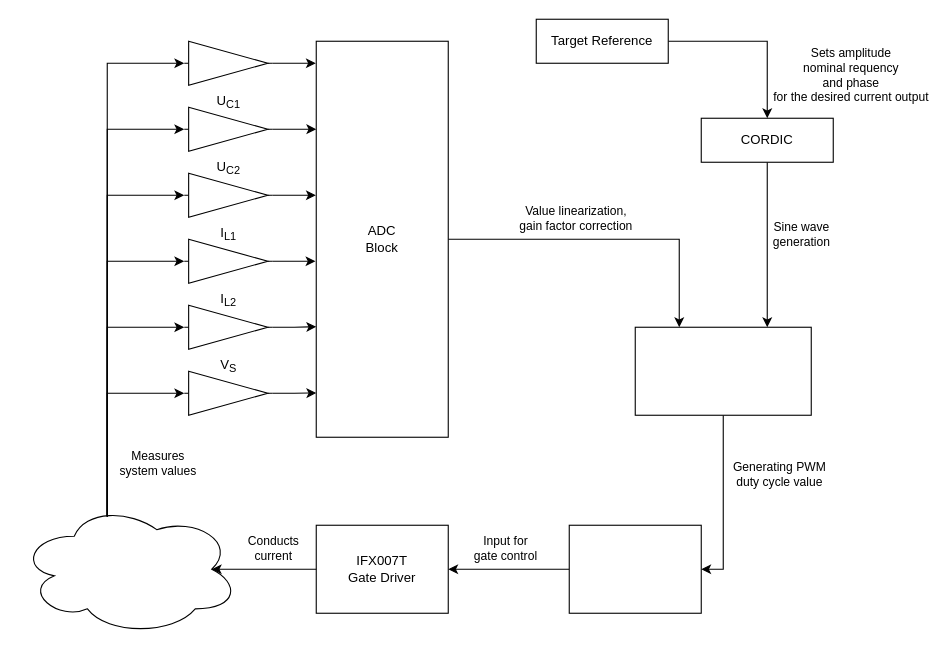
Image size: 947x655. Some labels were removed from this diagram. The shapes that lost their labels are listed below. From the top down, each one's centre as x and y in pixels, then its label:
At pixel 722 370: "Control Block".
At pixel 227 392: "I O".
At pixel 128 568: "Physical System (LCL Filter + Voltage Source + Grid Connection)".
At pixel 634 568: "PWM Generator Peripheral".
